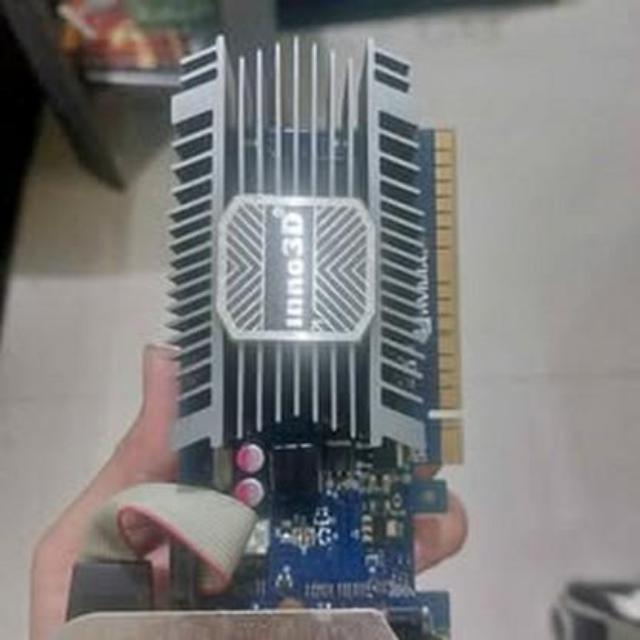GPU: (178, 34, 472, 608)
